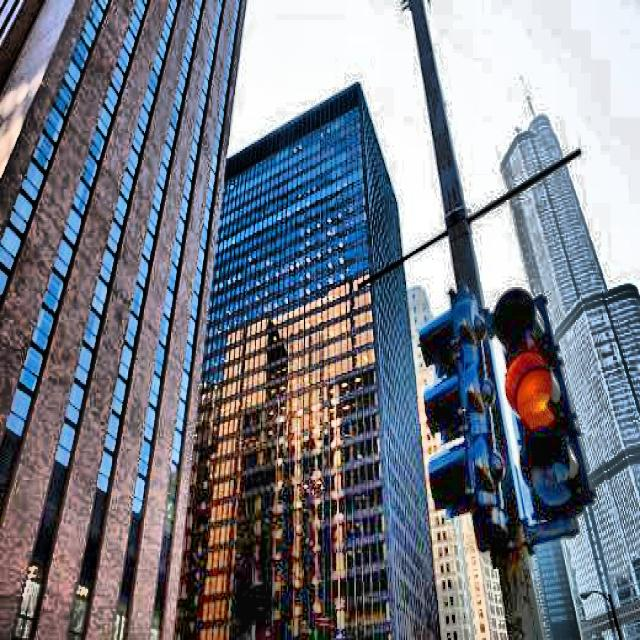yellow: (490, 290, 602, 511)
